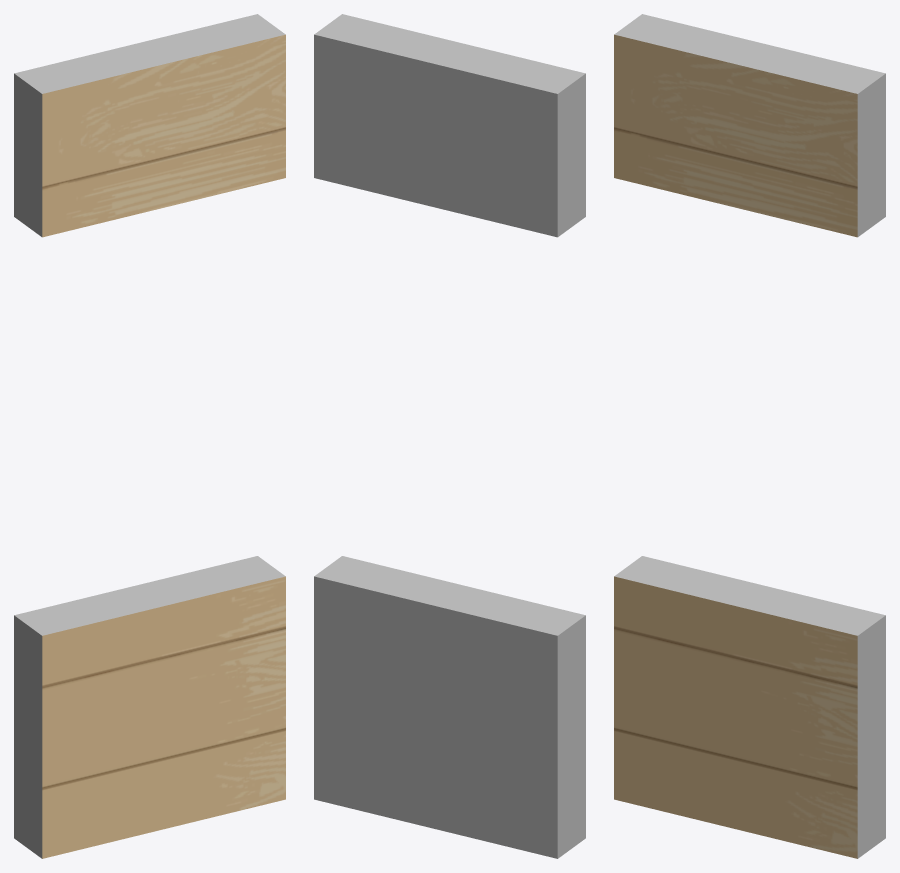
Rendered from Wall Standard 1x3 Window 3 - B.fbx.
The picture shows the model from 3 angles, left to right: view 1: azimuth 30°, elevation 25°; view 2: azimuth 150°, elevation 25°; view 3: azimuth 330°, elevation 25°; orthographic projection.
Parts seen in each view (by area): view 1: Wall Standard 1x3 (Window 3 - B); view 2: Wall Standard 1x3 (Window 3 - B); view 3: Wall Standard 1x3 (Window 3 - B).
Part boxes in pixels (bbox=[...]): Wall Standard 1x3 (Window 3 - B): bbox=[14, 14, 285, 858]; Wall Standard 1x3 (Window 3 - B): bbox=[314, 14, 585, 858]; Wall Standard 1x3 (Window 3 - B): bbox=[614, 14, 885, 858].
Size of the model in its own units: 100 by 300 by 20.
